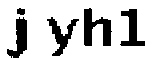1: (116, 3, 149, 52)
h: (80, 6, 113, 52)
j: (4, 6, 30, 60)
y: (44, 15, 77, 56)
